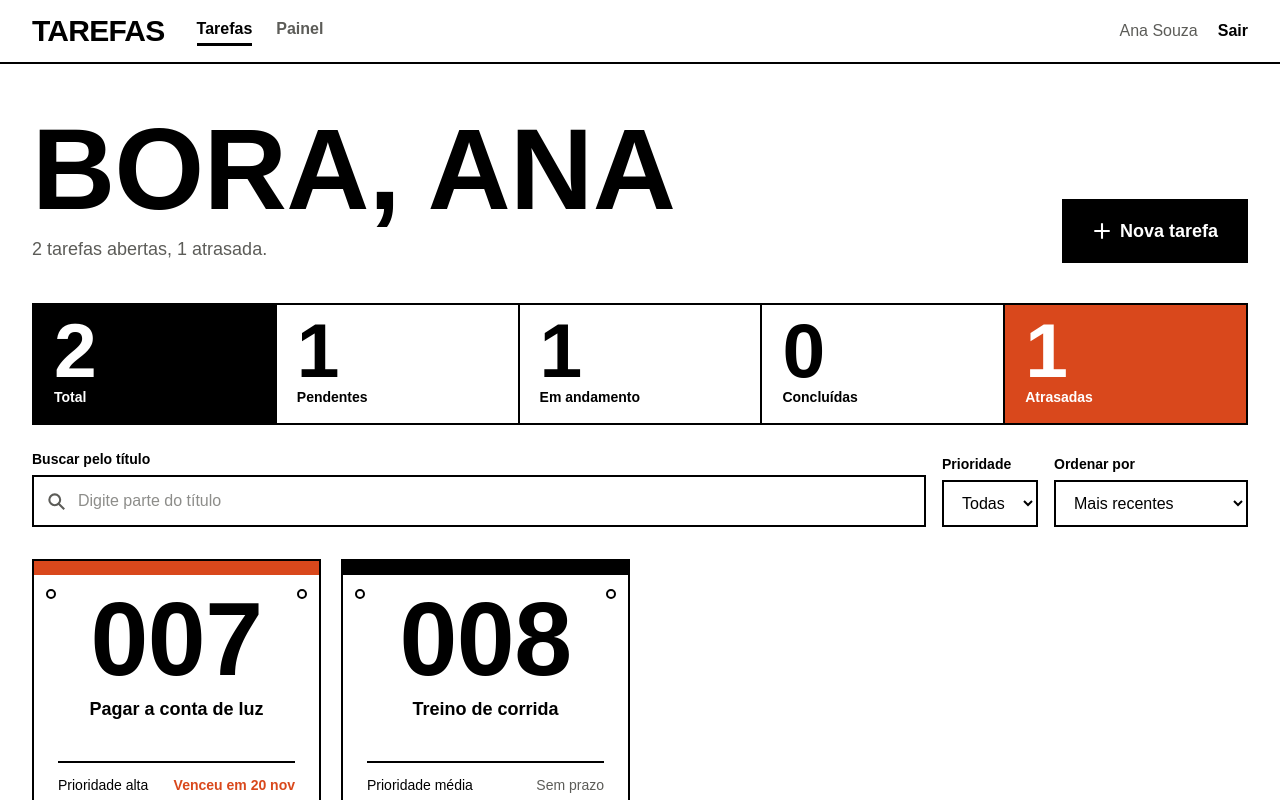
Scenario: página de tarefas › mostra no campo o erro de validação devolvido pela API
Click the button "Nova tarefa" at coordinates (1155, 231), box [1062,199,1248,263]
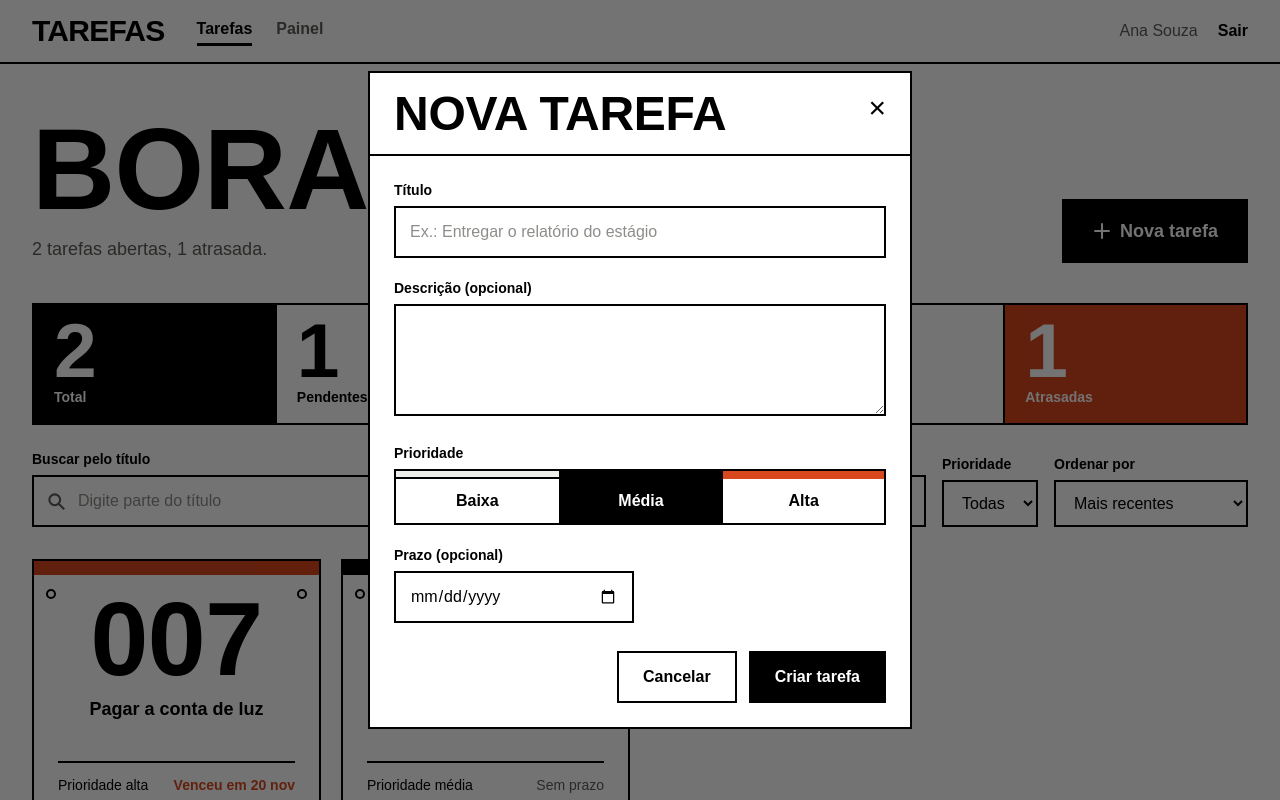
Type "Qualquer coisa" into the field labelled "Título" at coordinates (640, 232), box [394,206,886,258]
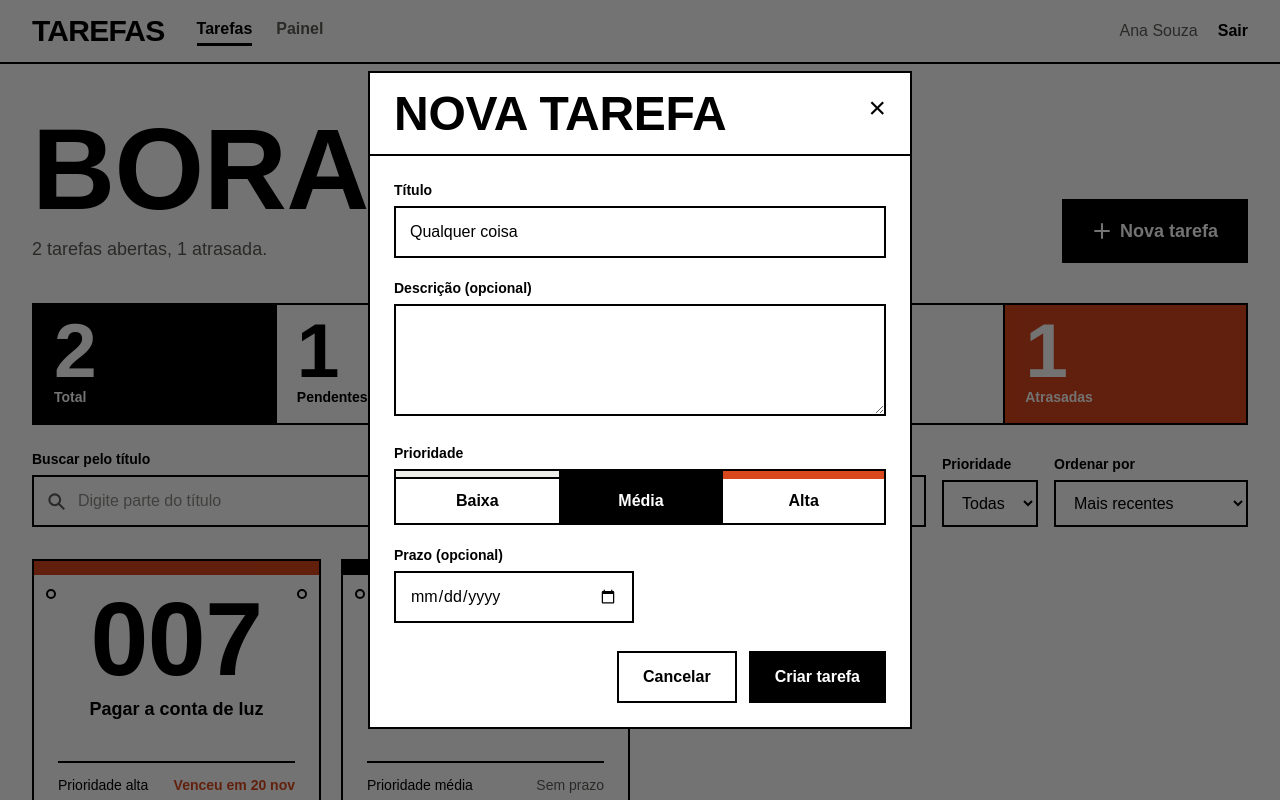
Click the button "Criar tarefa" at coordinates (817, 677), box [749,651,886,703]
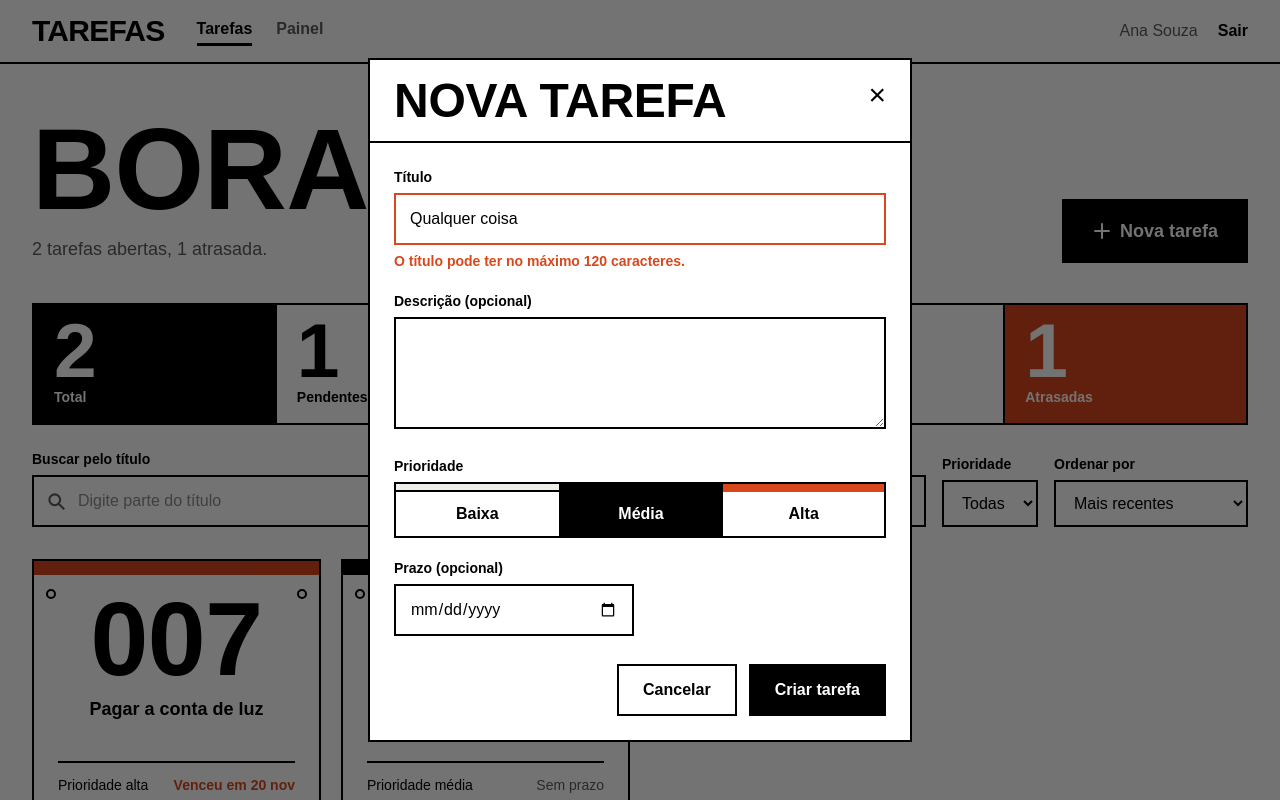
Check: the text "O título pode ter no máximo 120 caracteres." is shown, box [394,253,685,269]
